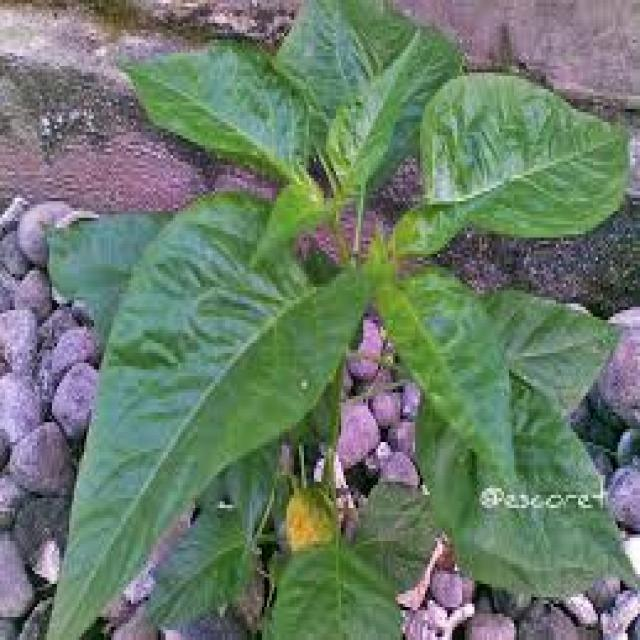sehat: (49, 167, 368, 630)
